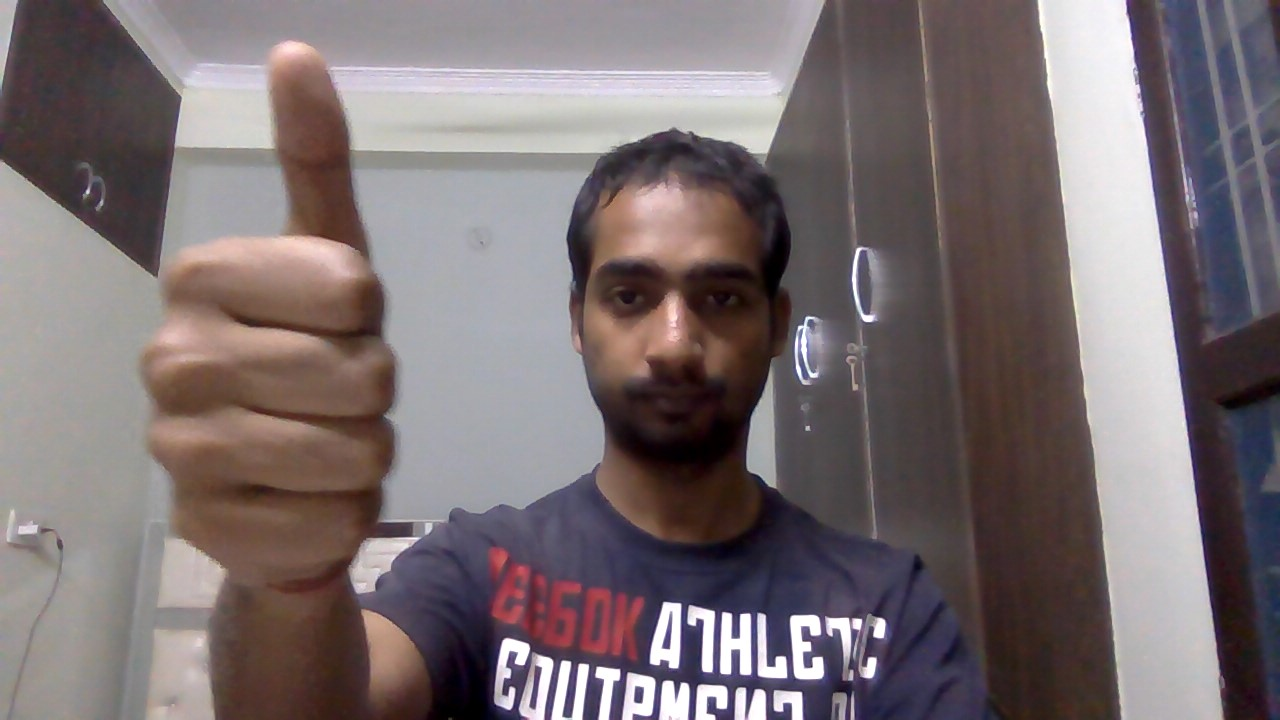Save: (128, 37, 446, 592)
